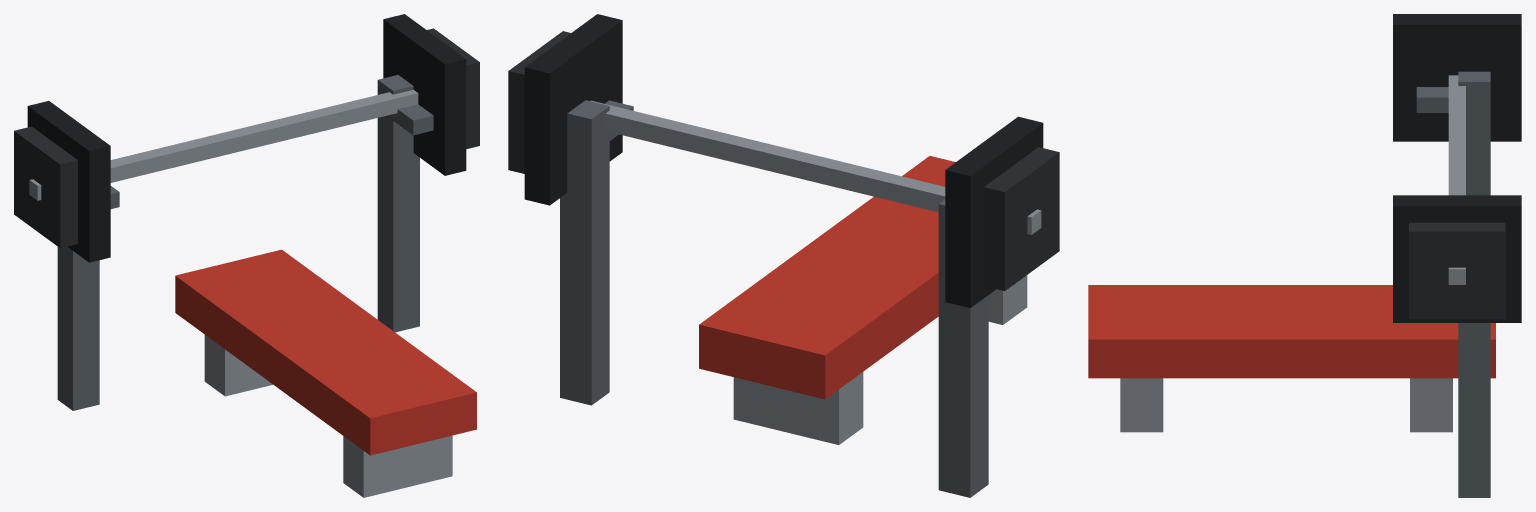
The model's file is BenchPress.fbx.
The picture shows the model from 3 angles, left to right: view 1: azimuth 30°, elevation 25°; view 2: azimuth 150°, elevation 25°; view 3: azimuth 270°, elevation 25°; orthographic projection. The views are drawn at different scales.
Visible parts, largest first — view 1: BenchPress_Mesh, Barbell; view 2: BenchPress_Mesh, Barbell; view 3: BenchPress_Mesh, Barbell.
Boxes of the visible parts, bbox=[...] form: BenchPress_Mesh: bbox=[57, 75, 476, 497]; Barbell: bbox=[14, 14, 479, 262]; BenchPress_Mesh: bbox=[560, 100, 1027, 497]; Barbell: bbox=[508, 14, 1059, 308]; BenchPress_Mesh: bbox=[1088, 71, 1495, 497]; Barbell: bbox=[1393, 14, 1521, 322].
Size of the model in its own units: 2.4 by 1.54 by 2.02.
1 material, 1 textured.
